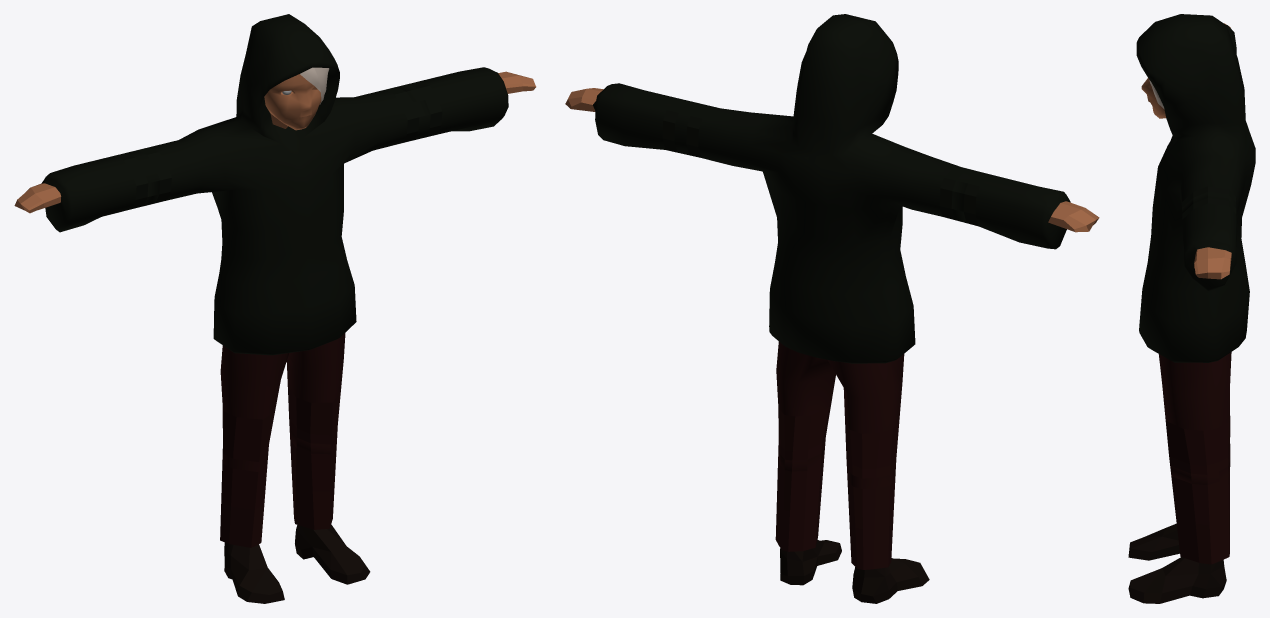
Rendered from TLT_Human.fbx.
The picture shows the model from 3 angles, left to right: view 1: azimuth 30°, elevation 25°; view 2: azimuth 150°, elevation 25°; view 3: azimuth 270°, elevation 25°; orthographic projection. The views are drawn at different scales.
Visible parts, largest first — view 1: LD_details001; view 2: LD_details001; view 3: LD_details001.
Boxes of the visible parts, x1,y1,x2,y2 form: LD_details001: [14, 14, 536, 603]; LD_details001: [565, 14, 1099, 603]; LD_details001: [1128, 14, 1255, 603].
Bounding box in the file's own units: 1.37 × 1.4 × 0.2917.
